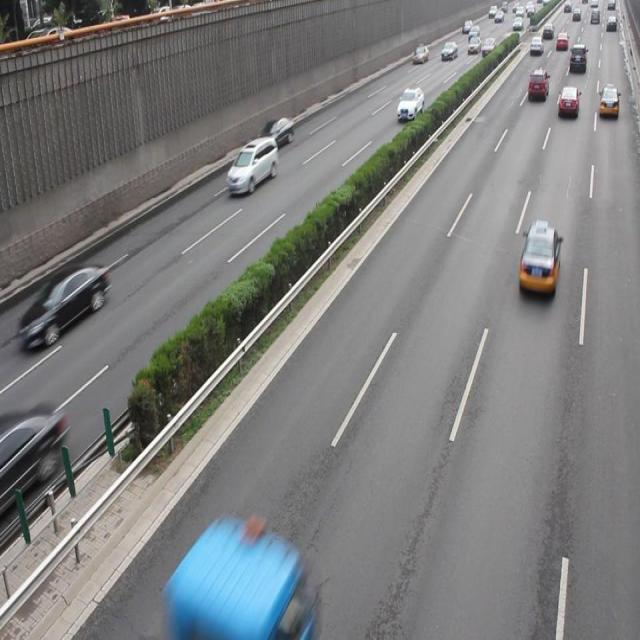car: (19, 261, 111, 349), (1, 399, 67, 508), (517, 221, 560, 297), (258, 117, 293, 150), (395, 86, 423, 120)
truck: (227, 136, 277, 195)
